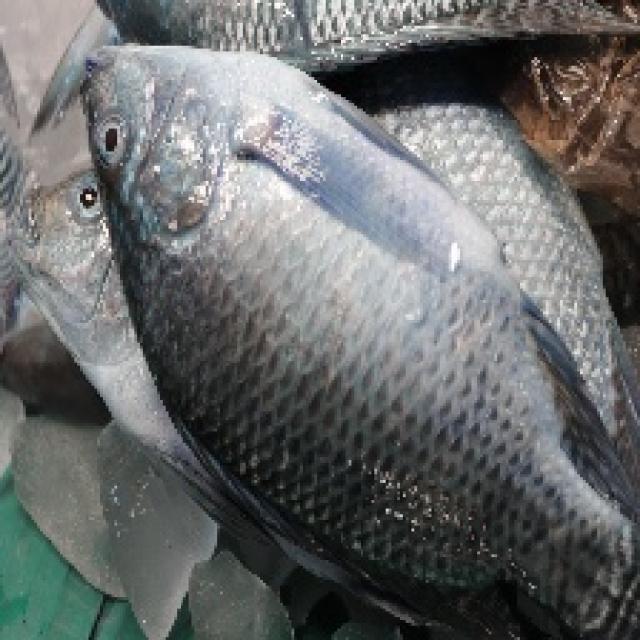Fresh: (64, 31, 554, 529)
